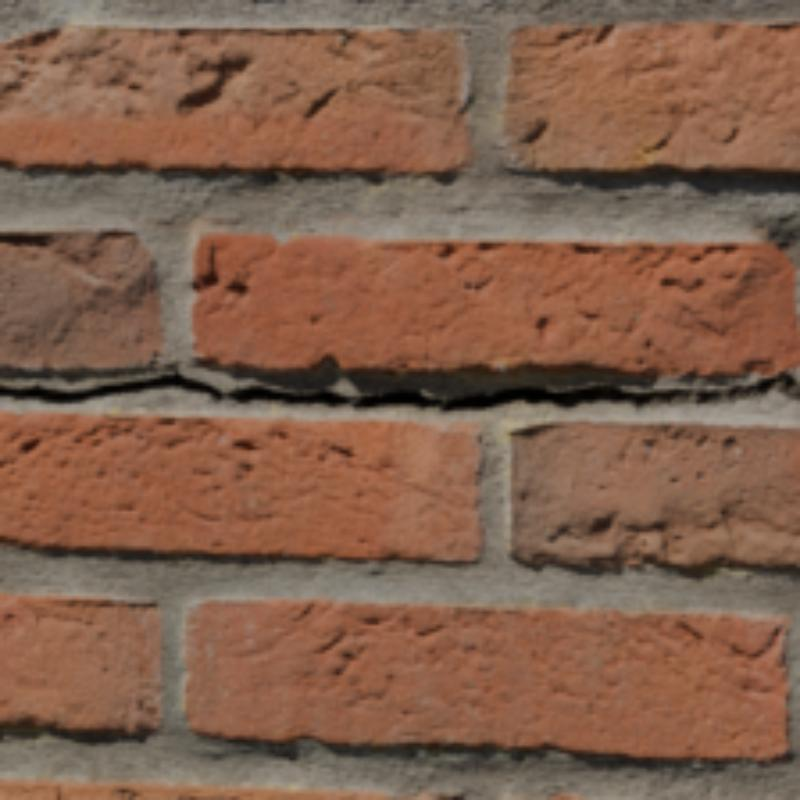pothole: (0, 371, 796, 407)
